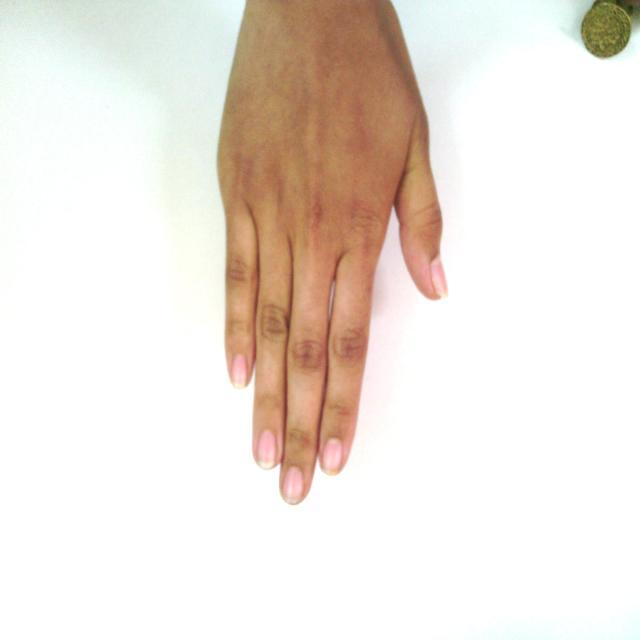Fingernail: (284, 466, 304, 503), (323, 438, 342, 475), (258, 430, 276, 468), (431, 259, 448, 297), (232, 355, 247, 388)
